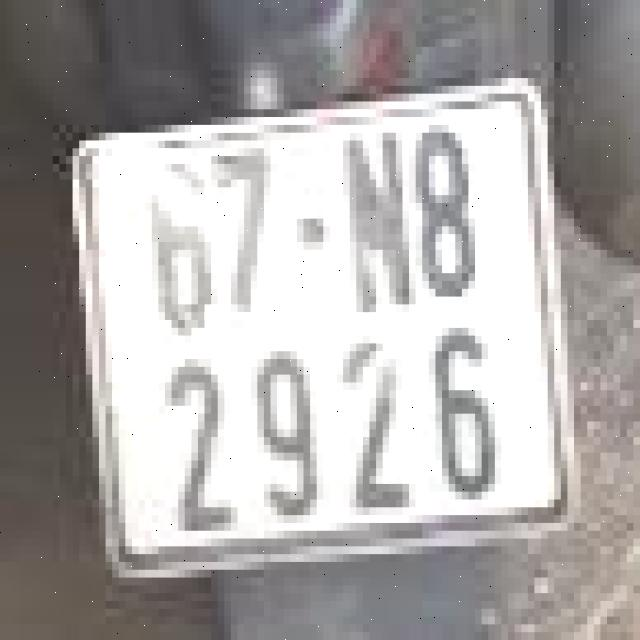2: (330, 336, 422, 530), (158, 359, 238, 539)
6: (436, 328, 508, 515), (148, 152, 214, 332)
7: (214, 137, 280, 308)
8: (416, 117, 482, 320)
9: (250, 339, 316, 527)
N: (336, 121, 416, 316)
